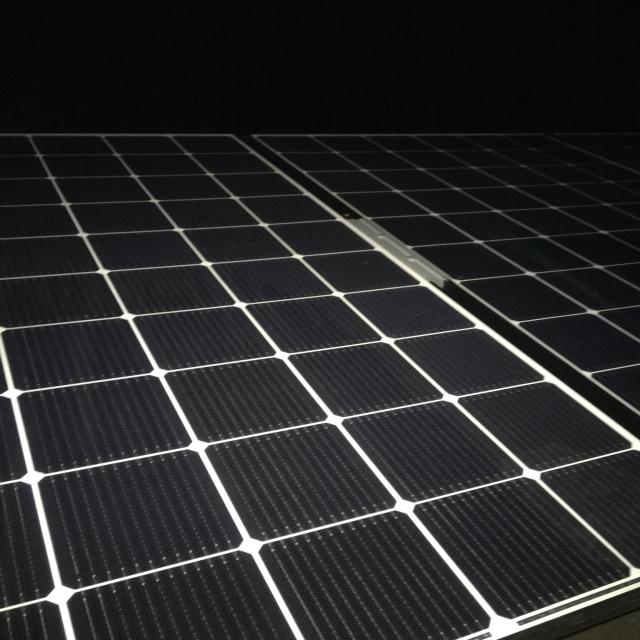clean-solar-panel: (2, 135, 638, 640)
